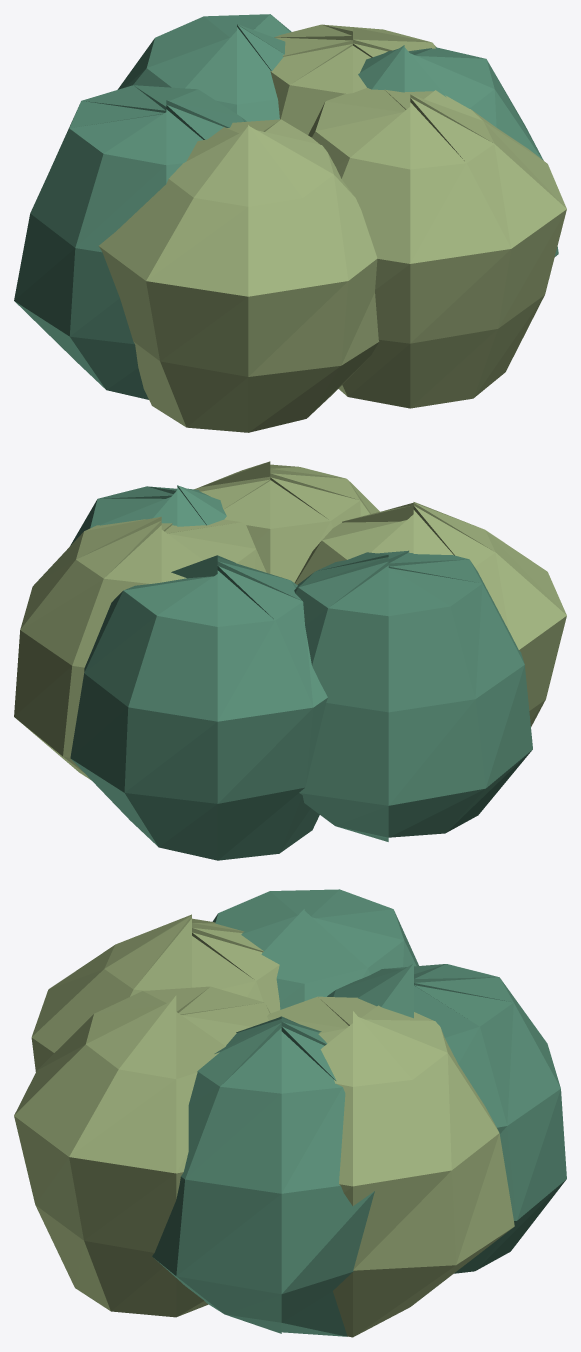
Rendered from bush_cluster.gltf.
The picture shows the model from 3 angles, top to bottom: view 1: azimuth 30°, elevation 25°; view 2: azimuth 150°, elevation 25°; view 3: azimuth 270°, elevation 25°; orthographic projection. The views are drawn at different scales.
Parts seen in each view (by area): view 1: Bush_1, Bush_3, Bush_4, Bush_2, Bush_5, Bush_0; view 2: Bush_2, Bush_4, Bush_5, Bush_1, Bush_3, Bush_0; view 3: Bush_0, Bush_3, Bush_5, Bush_2, Bush_1, Bush_4.
Boxes of the visible parts, left/top/right/bottom form: Bush_1: left=99, top=119, right=379, bottom=432; Bush_3: left=308, top=88, right=566, bottom=408; Bush_4: left=14, top=85, right=246, bottom=399; Bush_2: left=117, top=14, right=291, bottom=121; Bush_5: left=270, top=24, right=436, bottom=134; Bush_0: left=358, top=45, right=558, bottom=256; Bush_2: left=70, top=555, right=327, bottom=860; Bush_4: left=294, top=550, right=532, bottom=841; Bush_5: left=14, top=516, right=266, bottom=780; Bush_1: left=294, top=502, right=566, bottom=726; Bush_3: left=194, top=461, right=379, bottom=582; Bush_0: left=70, top=485, right=226, bottom=545; Bush_0: left=152, top=1016, right=374, bottom=1336; Bush_3: left=14, top=986, right=270, bottom=1317; Bush_5: left=267, top=996, right=514, bottom=1337; Bush_2: left=327, top=963, right=566, bottom=1273; Bush_1: left=31, top=914, right=280, bottom=1071; Bush_4: left=212, top=889, right=418, bottom=1009.
Bounding box in the file's own units: 2.06 × 1.21 × 1.92.
